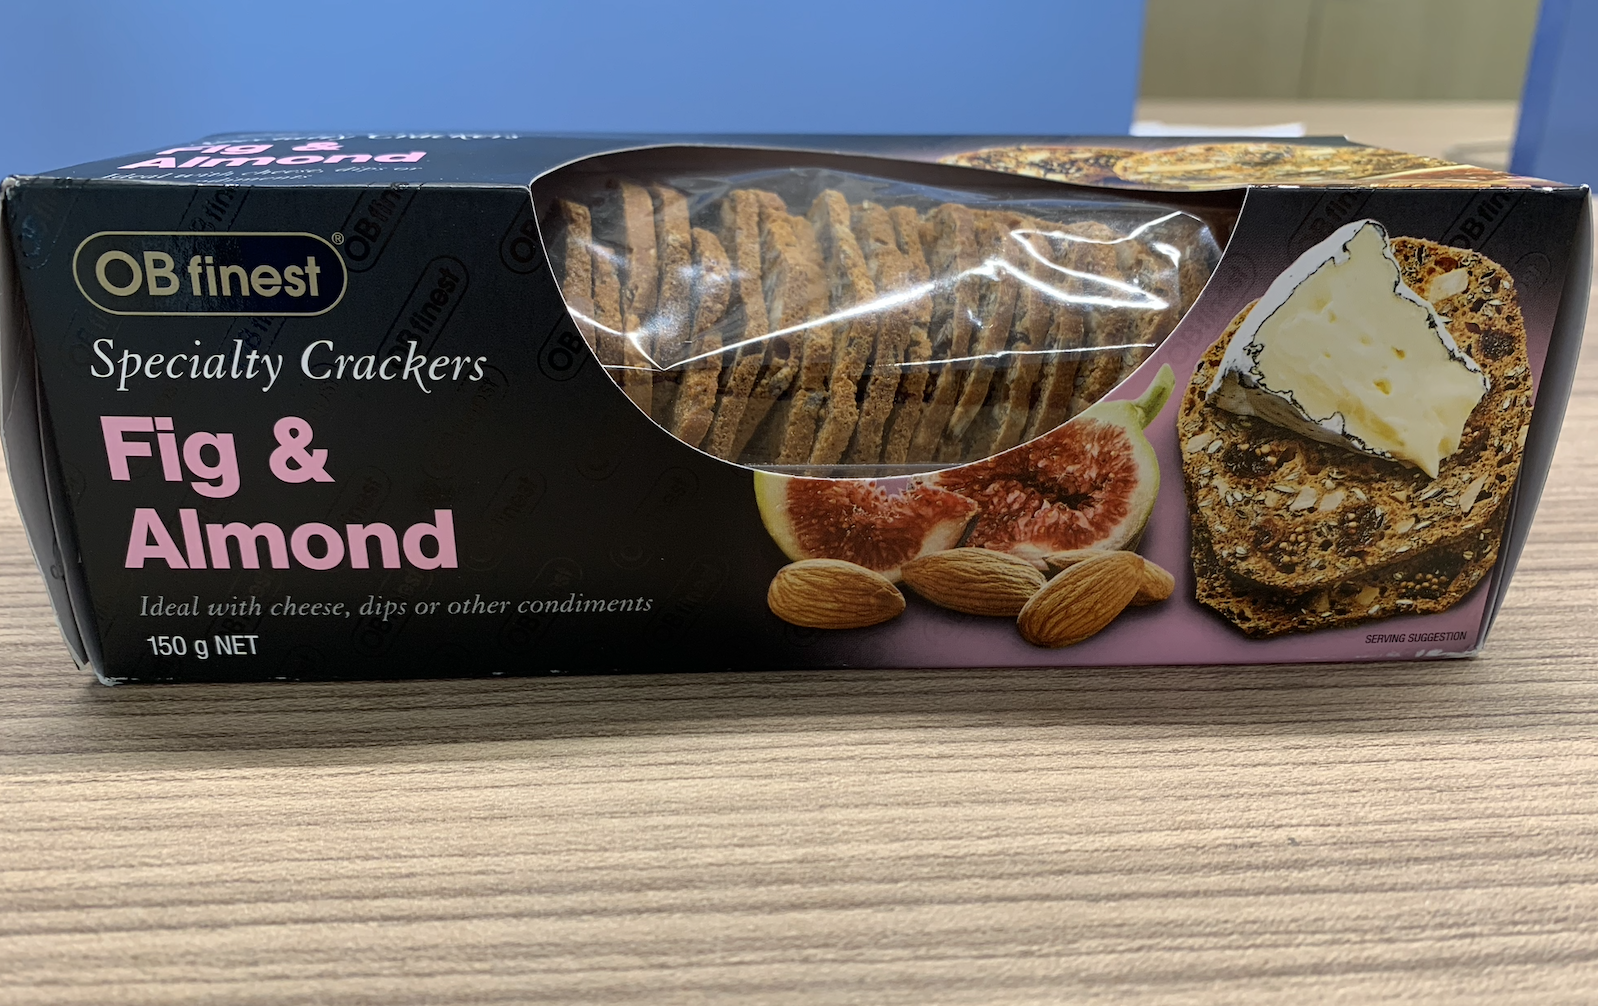crackers_100g-199g: (57, 206, 1500, 663)
